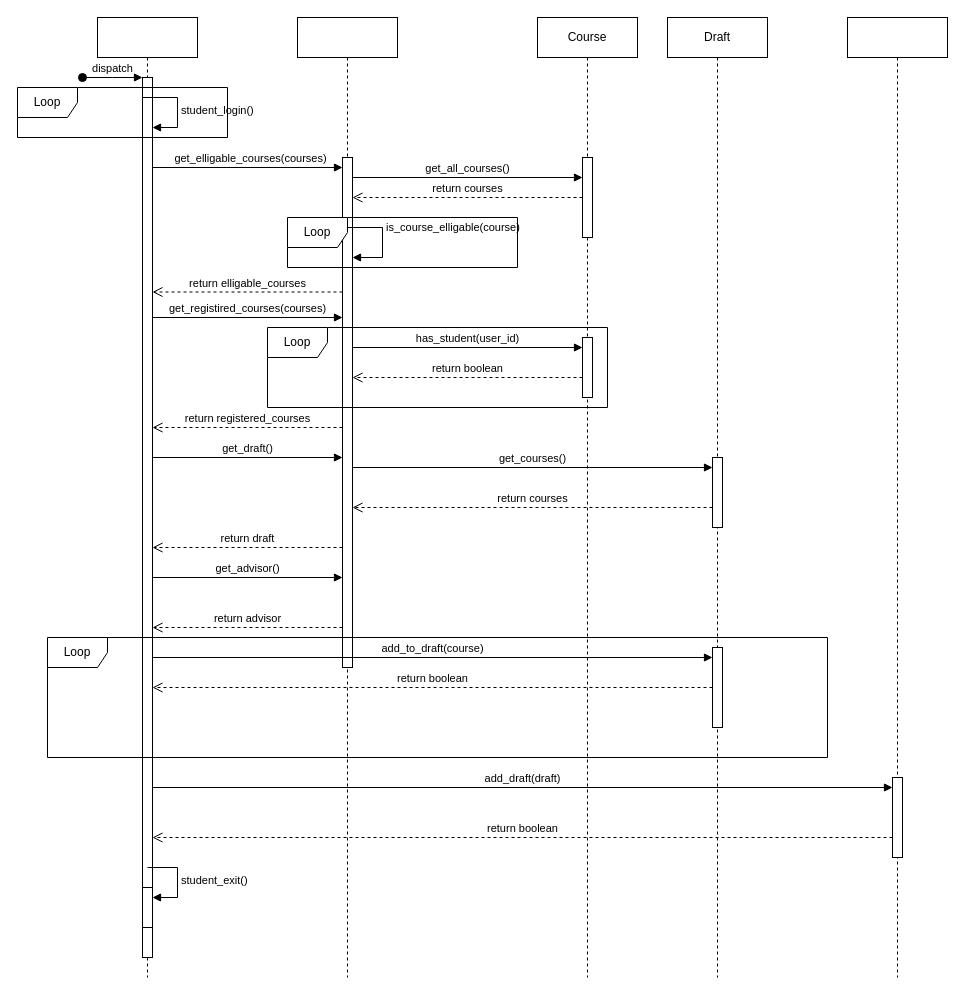
The diagram is 965 pixels wide and 995 high, and some of its shapes have lost their labels. Each missing label, with the box of its shape:
Advisor: (846, 16, 948, 978)
Main: (96, 16, 198, 978)
Student: (296, 16, 398, 978)
